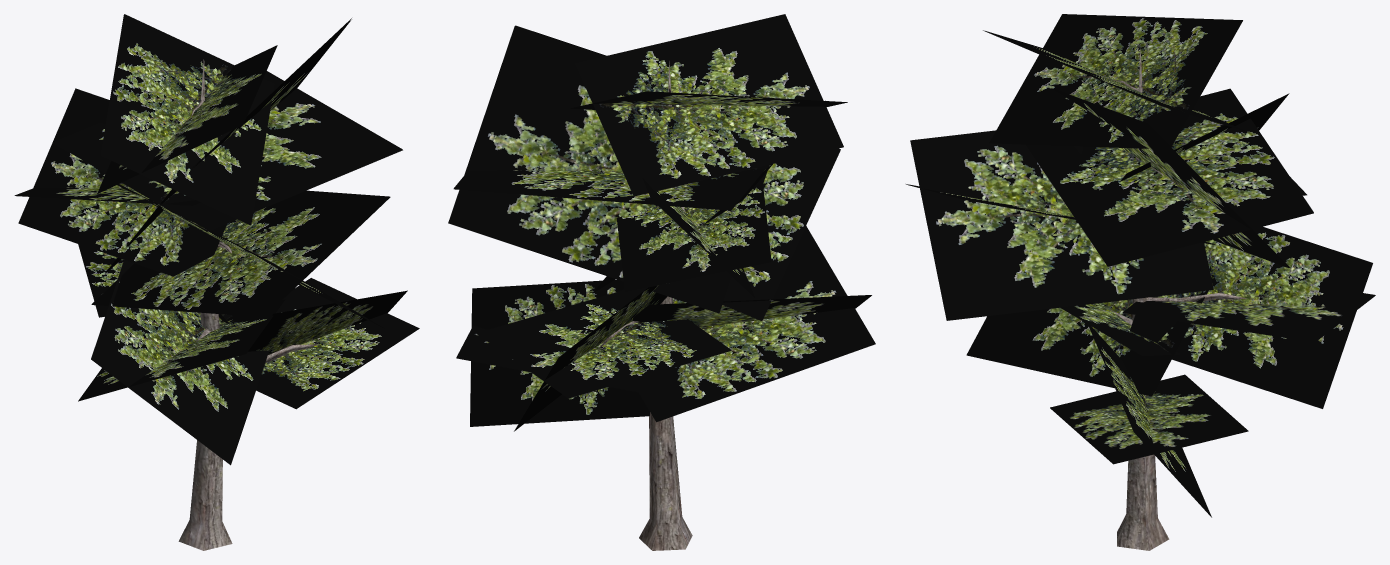
Rendered from tree3.glb.
3 renders of one model, left to right at view 1: azimuth 30°, elevation 25°; view 2: azimuth 150°, elevation 25°; view 3: azimuth 270°, elevation 25°, orthographic.
Parts seen in each view (by area): view 1: Arbol3; view 2: Arbol3; view 3: Arbol3.
Part boxes in pixels (x1=…): Arbol3: x1=14, y1=14, x2=419, y2=550; Arbol3: x1=448, y1=14, x2=875, y2=550; Arbol3: x1=906, y1=14, x2=1375, y2=550.
Bounding box in the file's own units: 43.74 × 56.11 × 47.68.
2 materials, 2 textured.
